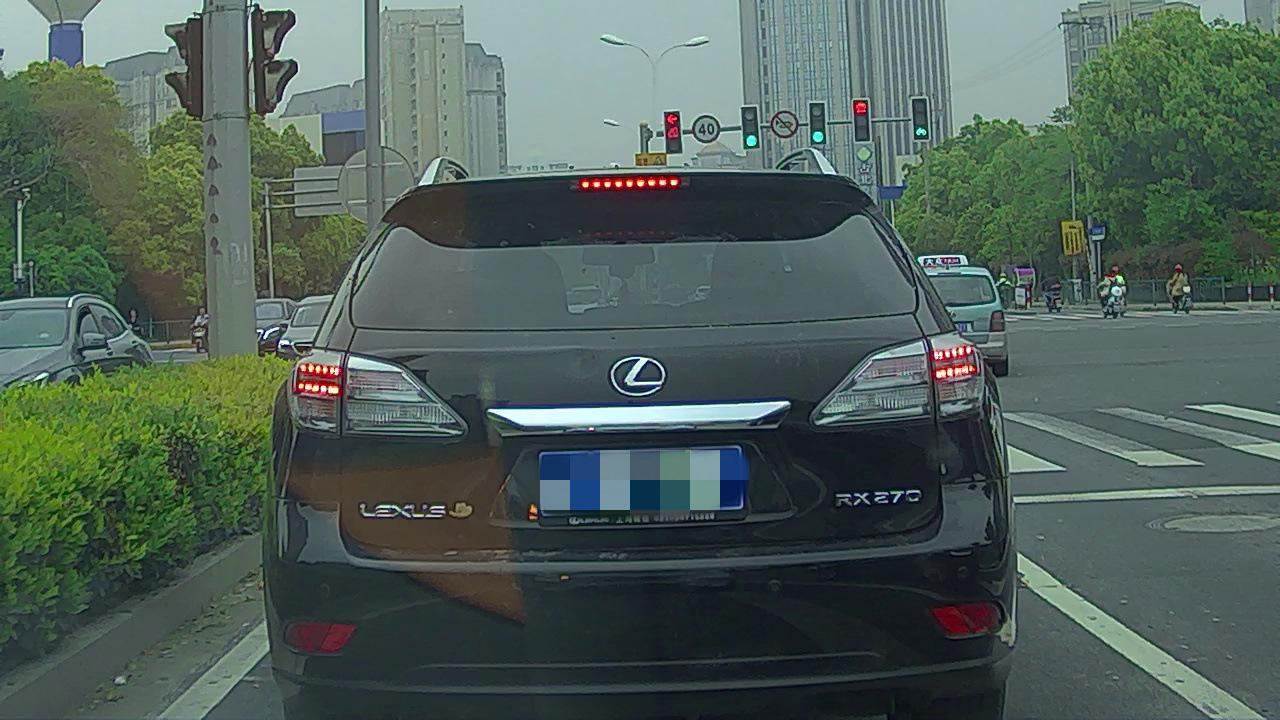traffic_light: (741, 106, 761, 148), (851, 101, 870, 143), (809, 99, 826, 144), (664, 113, 682, 151), (913, 98, 929, 139)
